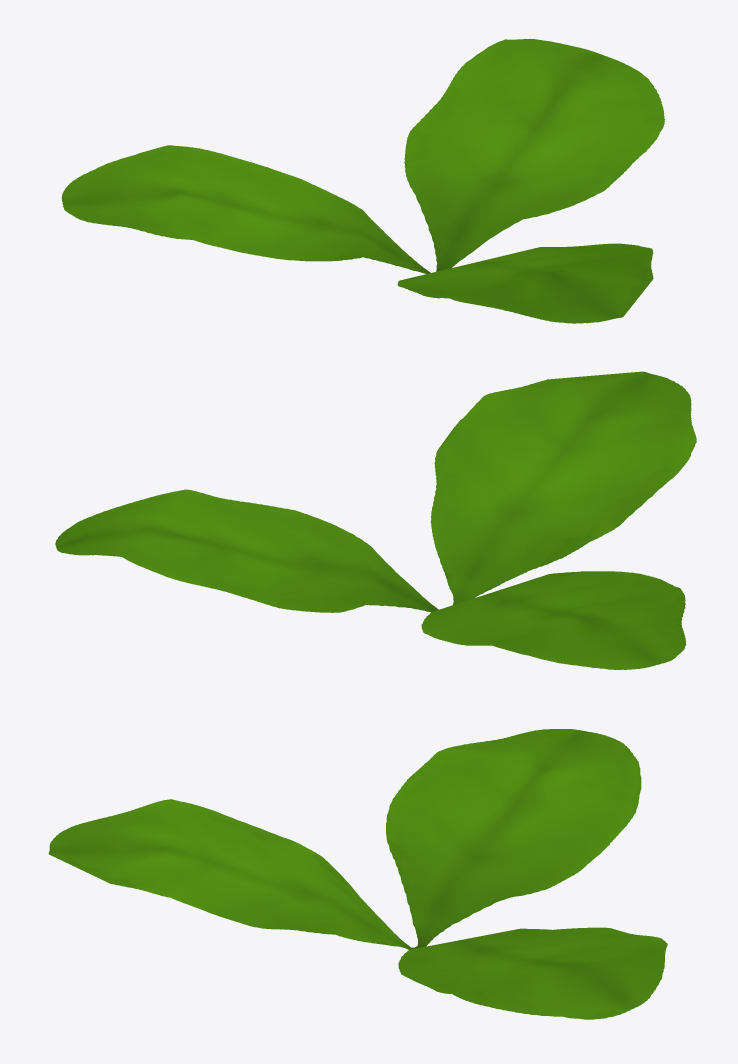
File: Plant3.fbx
The picture shows the model from 3 angles, top to bottom: view 1: azimuth 30°, elevation 25°; view 2: azimuth 150°, elevation 25°; view 3: azimuth 270°, elevation 25°; orthographic projection. The views are drawn at different scales.
Parts seen in each view (by area): view 1: Plane_Stylized19; view 2: Plane_Stylized19; view 3: Plane_Stylized19.
Boxes of the visible parts, x1=… form: Plane_Stylized19: x1=61, y1=39, x2=664, y2=323; Plane_Stylized19: x1=55, y1=371, x2=696, y2=669; Plane_Stylized19: x1=48, y1=729, x2=667, y2=1019.
Bounding box in the file's own units: 6.88 × 1.07 × 6.45.
